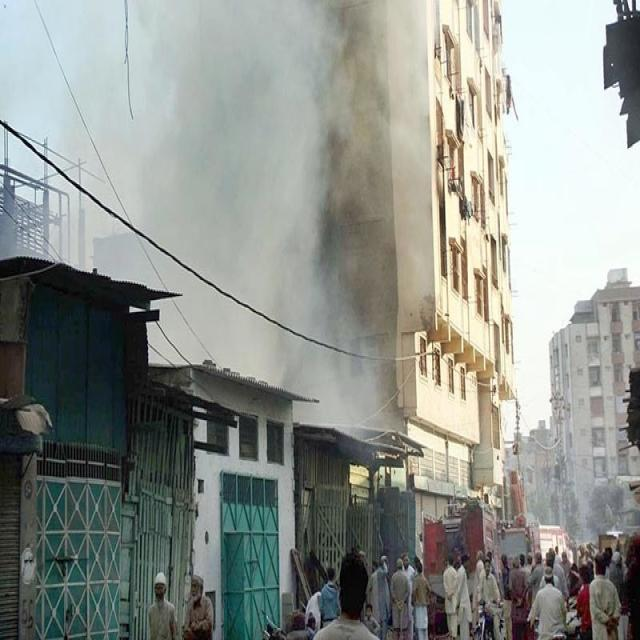Smoke: (67, 0, 408, 463)
